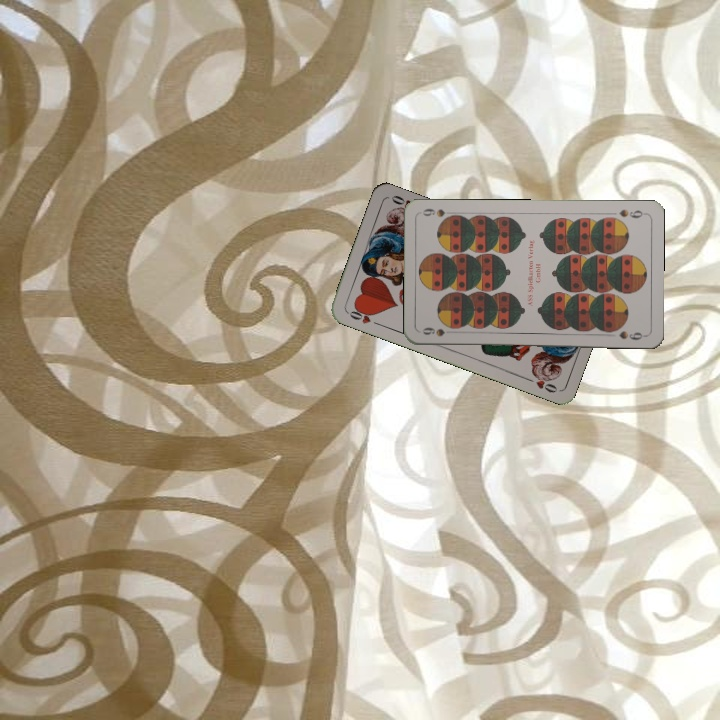HO: (344, 303, 383, 328)
S9: (418, 323, 459, 339), (615, 205, 648, 220)
